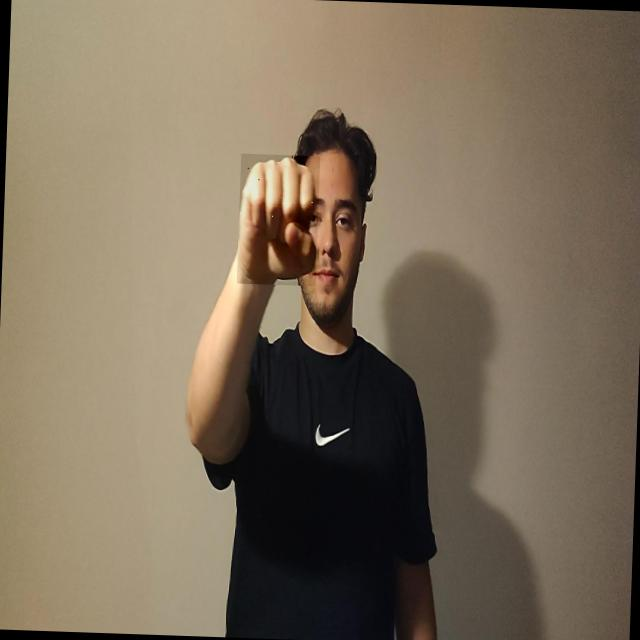yes: (237, 154, 321, 286)
